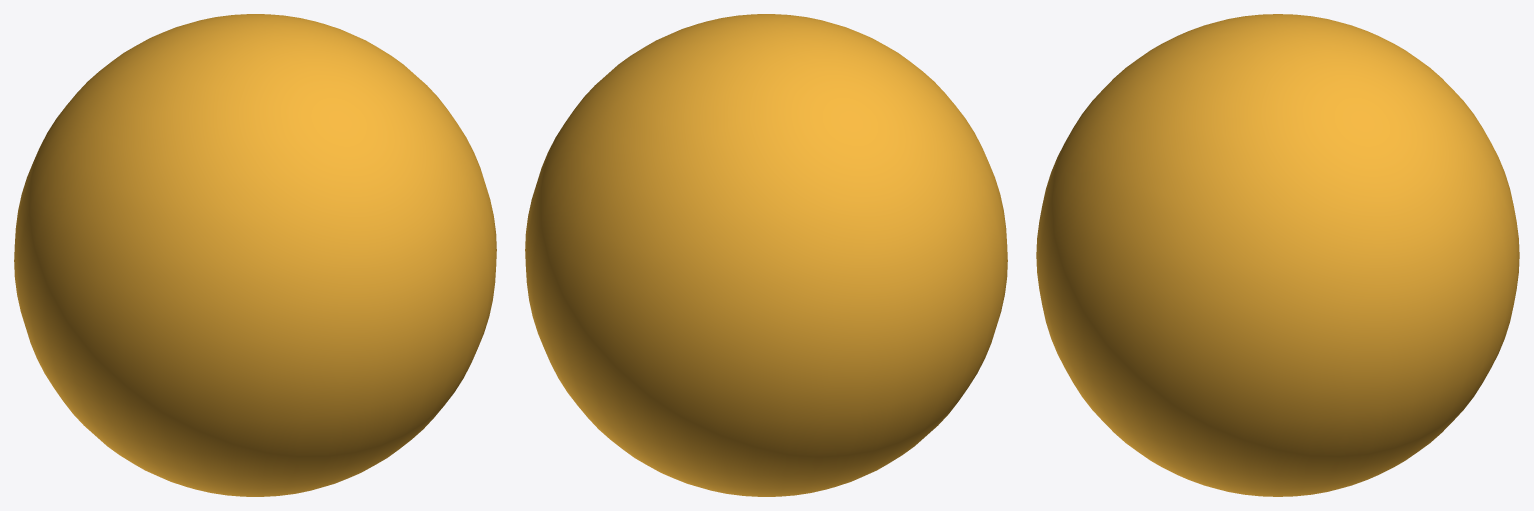
Rendered from SM_Player.FBX.
The picture shows the model from 3 angles, left to right: view 1: azimuth 30°, elevation 25°; view 2: azimuth 150°, elevation 25°; view 3: azimuth 270°, elevation 25°; orthographic projection.
Parts seen in each view (by area): view 1: SM_Player; view 2: SM_Player; view 3: SM_Player.
Boxes of the visible parts, x1,y1,x2,y2 form: SM_Player: [14, 14, 496, 496]; SM_Player: [525, 14, 1007, 496]; SM_Player: [1036, 14, 1519, 496].
Size of what is drawn, in the model's own units: 100 by 100 by 100.
